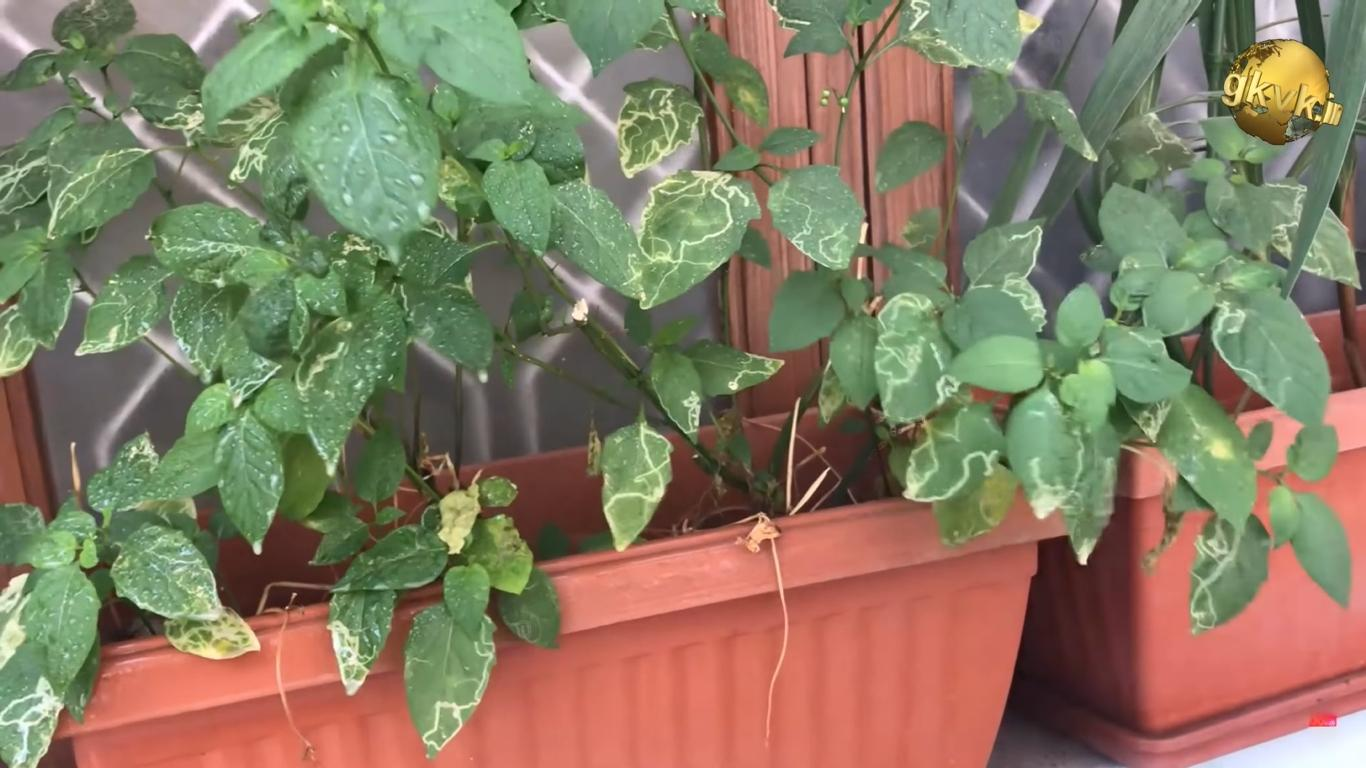Leaf_Miner: (636, 163, 766, 307), (1207, 284, 1329, 436), (396, 607, 501, 761), (294, 313, 378, 476), (144, 200, 284, 290), (873, 290, 964, 428), (1262, 175, 1366, 291), (113, 522, 224, 622), (766, 159, 863, 273), (1006, 382, 1088, 516), (550, 179, 641, 299), (46, 144, 159, 240), (1187, 512, 1272, 637), (71, 251, 171, 356), (597, 424, 675, 555), (903, 404, 1005, 503), (614, 74, 706, 181), (170, 279, 251, 388), (1062, 418, 1120, 569), (134, 82, 282, 141), (0, 637, 66, 768), (324, 589, 399, 699), (958, 214, 1050, 291), (896, 0, 983, 73), (17, 243, 74, 354), (687, 335, 786, 397), (492, 565, 563, 650), (161, 602, 263, 661), (646, 346, 703, 445), (1113, 109, 1196, 172), (763, 0, 848, 61), (226, 116, 291, 193), (0, 138, 54, 221), (991, 270, 1049, 333), (0, 299, 37, 381), (814, 357, 850, 427)
